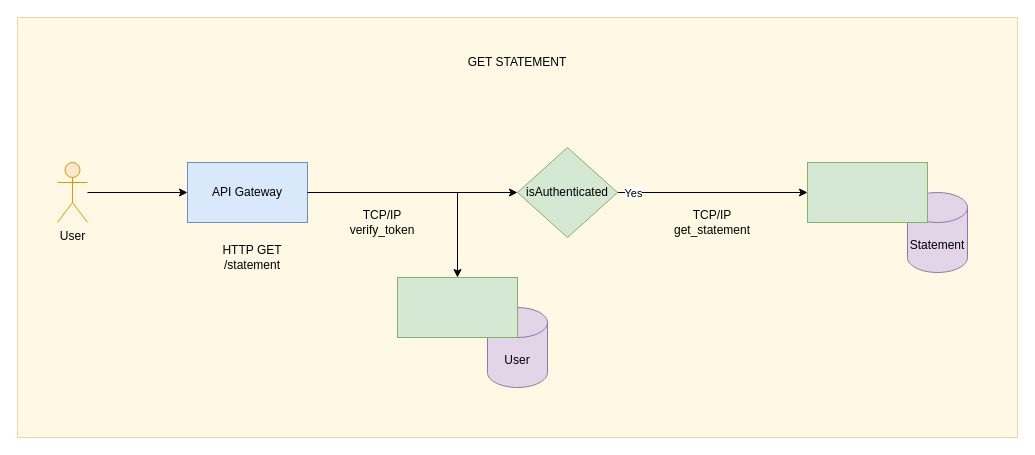
This 1035x455 diagram has some shape labels left out. Here are the shapes that lost their labels. From the top down, the centre of each, then its label:
At point (867, 192): "Report MS".
At point (457, 307): "Auth MS".
